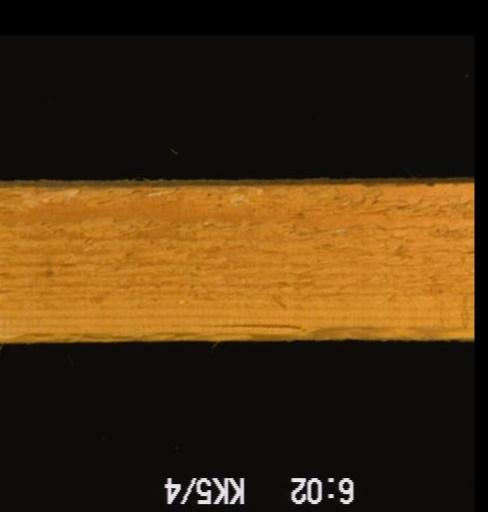wave: (184, 320, 472, 340)
